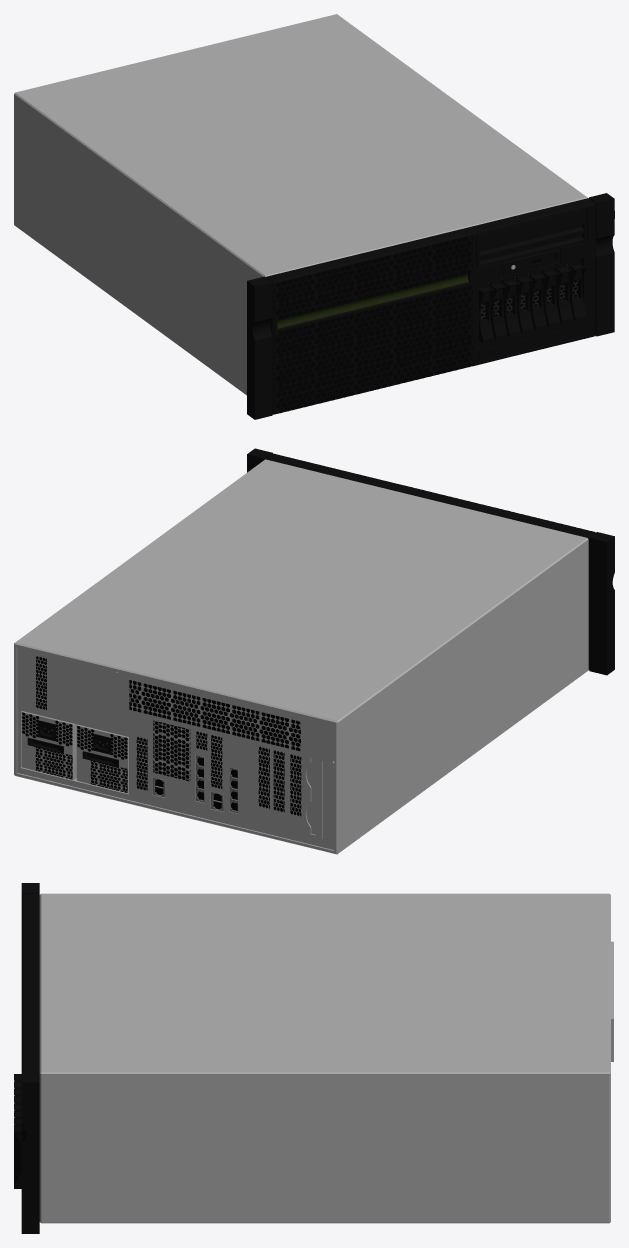
File: IBM_P740.fbx
The picture shows the model from 3 angles, top to bottom: view 1: azimuth 30°, elevation 25°; view 2: azimuth 150°, elevation 25°; view 3: azimuth 270°, elevation 25°; orthographic projection. The views are drawn at different scales.
Visible parts, largest first — view 1: IBM_P740; view 2: IBM_P740; view 3: IBM_P740.
Boxes of the visible parts, x1,y1,x2,y2 form: IBM_P740: [14, 14, 614, 419]; IBM_P740: [14, 448, 614, 854]; IBM_P740: [14, 883, 613, 1233].
Bounding box in the file's own units: 489 × 173 × 622.
9 materials, 1 textured.
